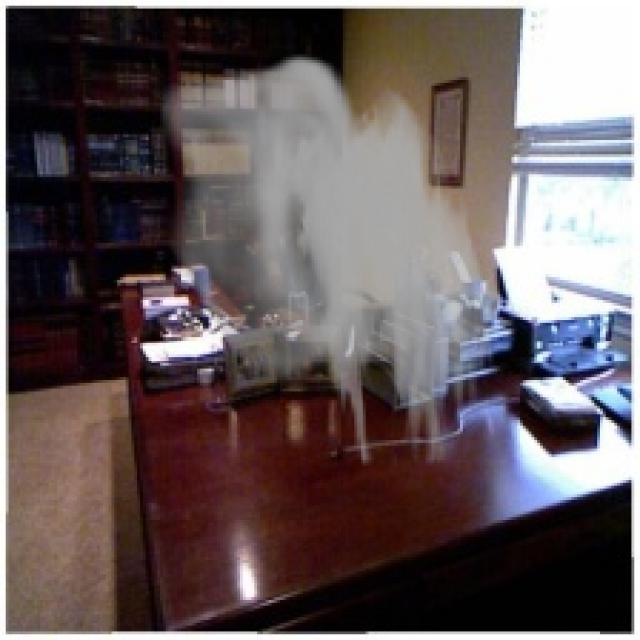smoke: (160, 54, 503, 466)
